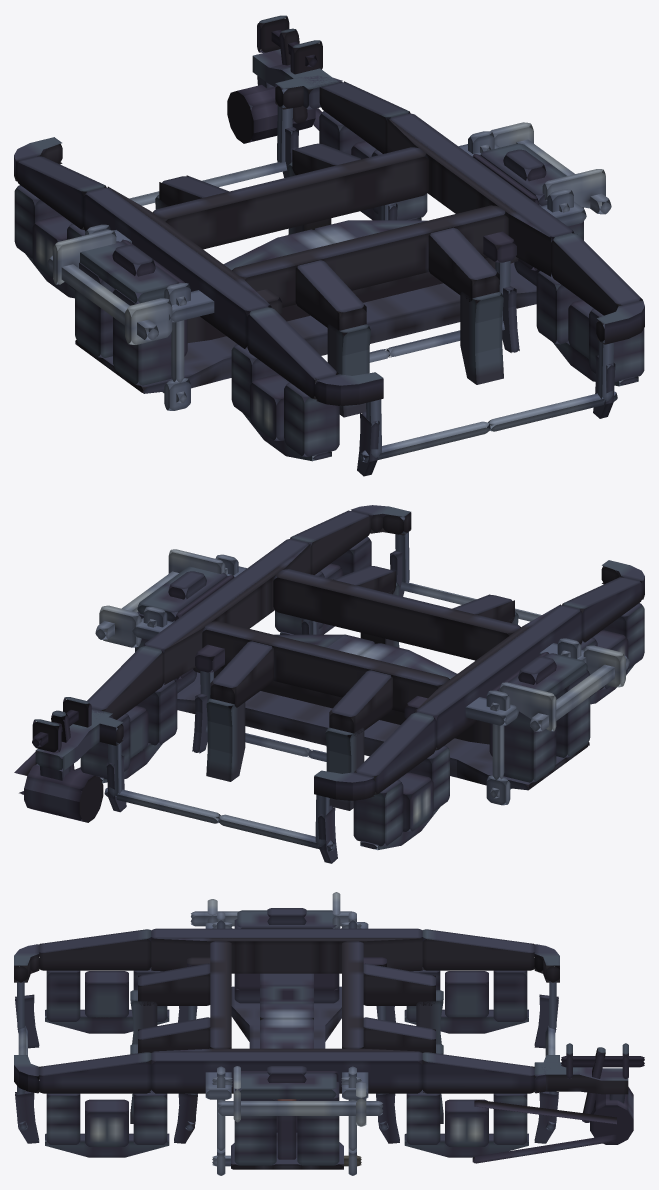
File: pk209p_main_hl.obj
The picture shows the model from 3 angles, top to bottom: view 1: azimuth 30°, elevation 25°; view 2: azimuth 150°, elevation 25°; view 3: azimuth 270°, elevation 25°; orthographic projection. The views are drawn at different scales.
Visible parts, largest first — view 1: 车轴发电机; view 2: 车轴发电机; view 3: 车轴发电机.
Boxes of the visible parts, <box> form: 车轴发电机: <box>14,15,644,476</box>; 车轴发电机: <box>14,505,644,863</box>; 车轴发电机: <box>14,892,644,1175</box>.
Bounding box in the file's own units: 3.15 × 0.7775 × 4.22.
